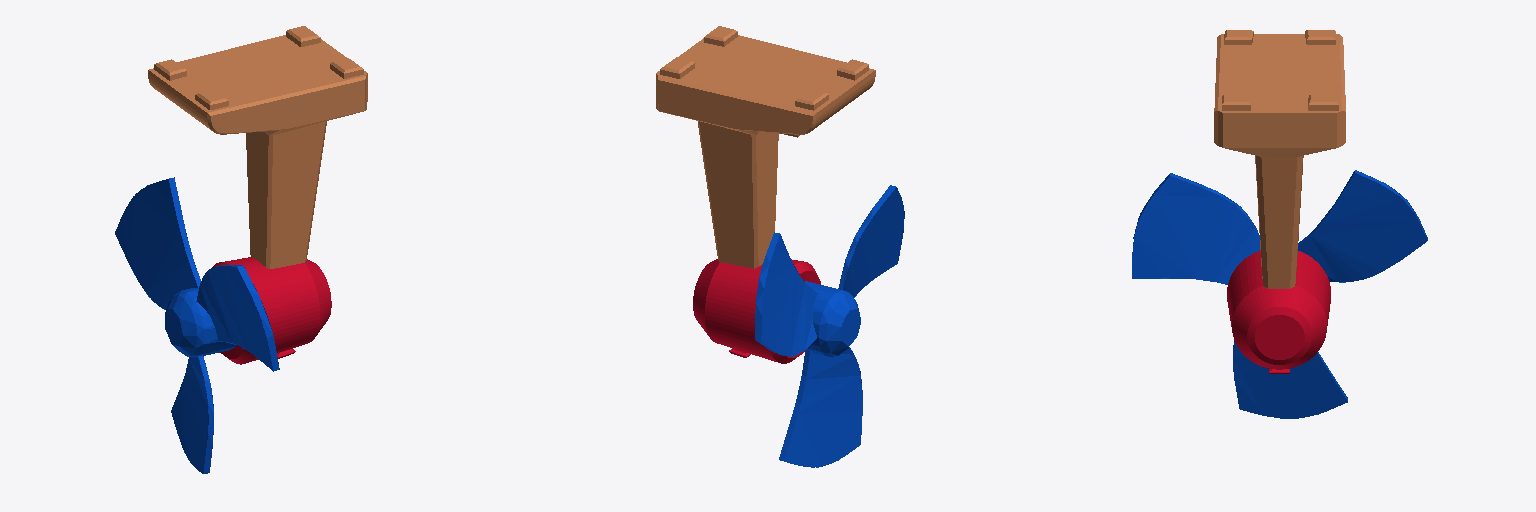
3 views of the same model, side by side, from view 1: azimuth 30°, elevation 25°; view 2: azimuth 150°, elevation 25°; view 3: azimuth 270°, elevation 25° (orthographic).
Parts seen in each view (by area): view 1: fan1, fan3, fan2; view 2: fan1, fan3, fan2; view 3: fan3, fan1, fan2.
Part boxes in pixels (bbox=[...]): fan1: bbox=[148, 26, 367, 268]; fan3: bbox=[115, 177, 279, 473]; fan2: bbox=[212, 257, 331, 364]; fan1: bbox=[656, 26, 875, 268]; fan3: bbox=[755, 185, 904, 467]; fan2: bbox=[693, 259, 820, 363]; fan3: bbox=[1132, 170, 1427, 418]; fan1: bbox=[1214, 30, 1345, 288]; fan2: bbox=[1227, 250, 1330, 373].
Size of the model in its own units: 5.23 by 11.48 by 8.06.